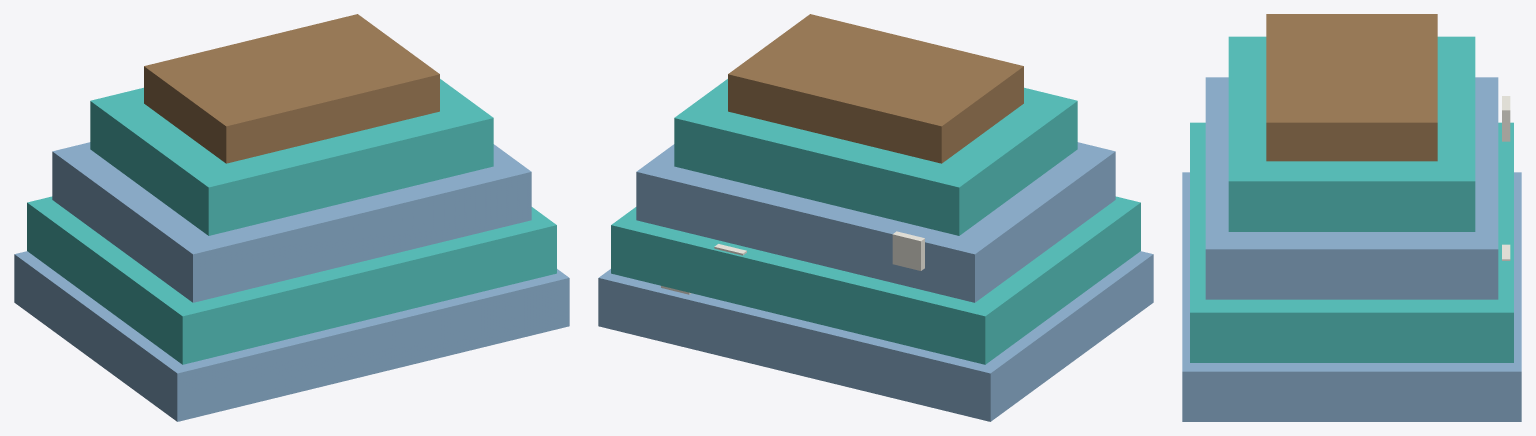
The model's file is pirata_sereia_saia.glb.
3 views of the same model, side by side, from view 1: azimuth 30°, elevation 25°; view 2: azimuth 150°, elevation 25°; view 3: azimuth 270°, elevation 25° (orthographic). The views are drawn at different scales.
Visible parts, largest first — view 1: pirata_sereia_saia; view 2: pirata_sereia_saia; view 3: pirata_sereia_saia.
Part boxes in pixels (left/top/right/bottom): pirata_sereia_saia: left=14, top=14, right=569, bottom=421; pirata_sereia_saia: left=598, top=14, right=1153, bottom=421; pirata_sereia_saia: left=1182, top=14, right=1521, bottom=421.
Bounding box in the file's own units: 1.1 × 0.655 × 0.792.
